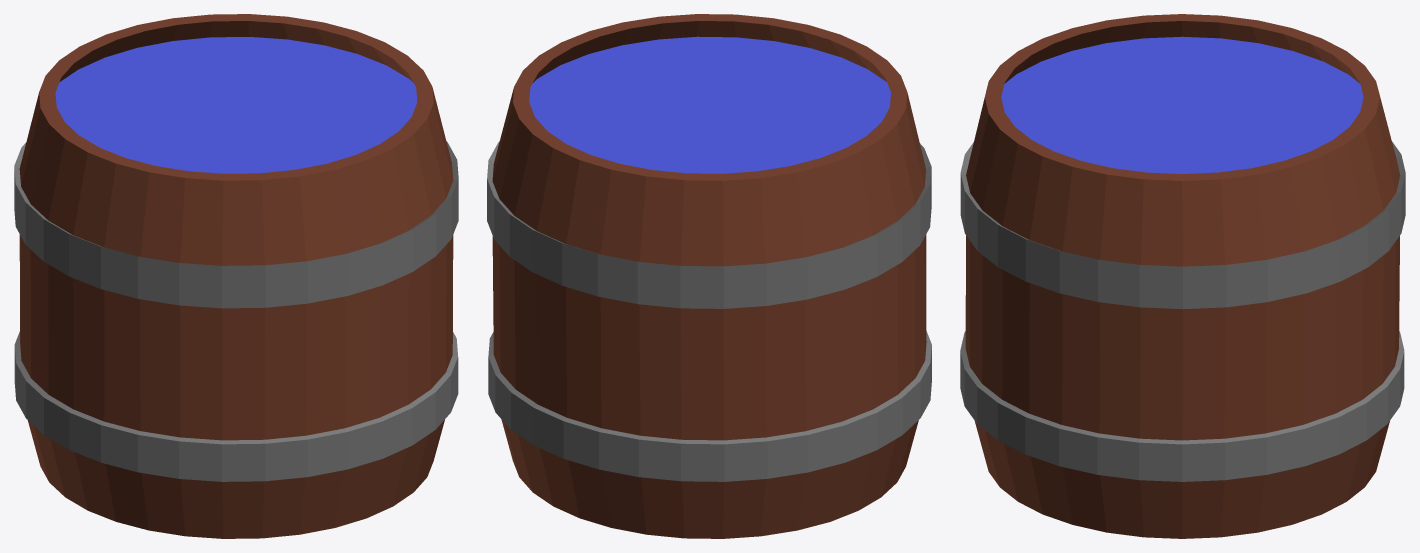
File: tank.glb
3 renders of one model, left to right at view 1: azimuth 30°, elevation 25°; view 2: azimuth 150°, elevation 25°; view 3: azimuth 270°, elevation 25°, orthographic.
Parts seen in each view (by area): view 1: Cylinder; view 2: Cylinder; view 3: Cylinder.
Boxes of the visible parts, x1,y1,x2,y2 form: Cylinder: (14,14,458,538); Cylinder: (487,14,931,538); Cylinder: (960,14,1405,538).
Size of the model in its own units: 1.13 by 1 by 1.13.
